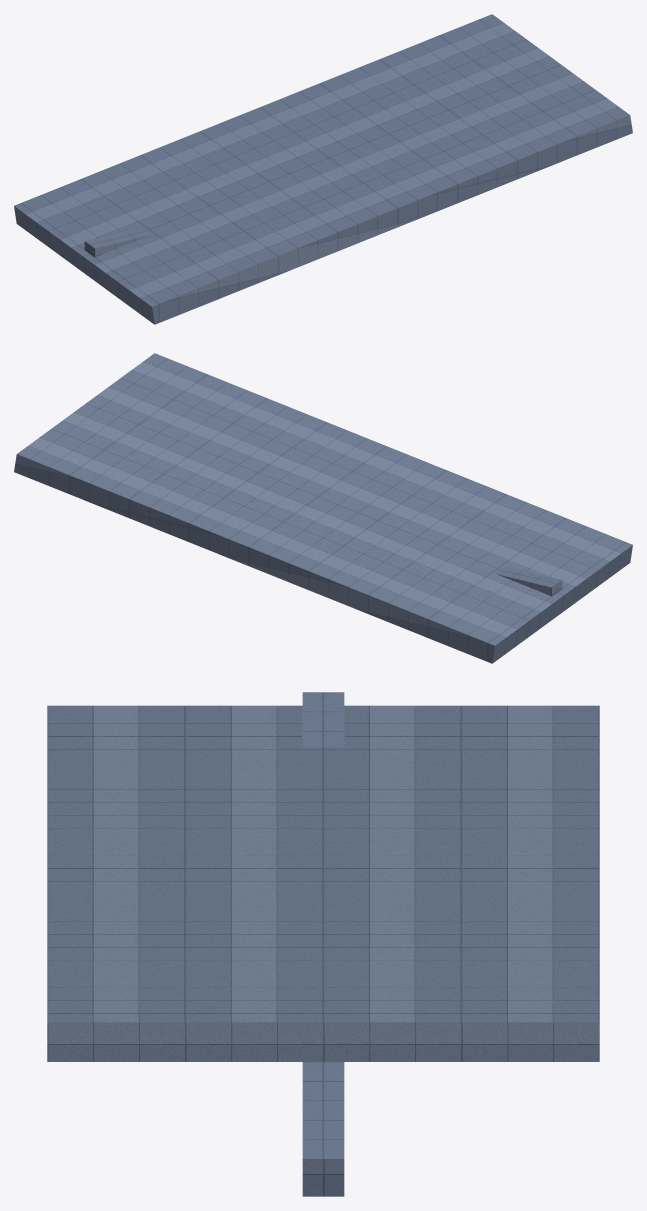
3 views of the same model, one above another, from view 1: azimuth 30°, elevation 25°; view 2: azimuth 150°, elevation 25°; view 3: azimuth 270°, elevation 25° (orthographic). The views are drawn at different scales.
Parts seen in each view (by area): view 1: roof_shed_production_run001; view 2: roof_shed_production_run001; view 3: roof_shed_production_run001.
Part boxes in pixels (box(x1,y1,x2,y2)): roof_shed_production_run001: box(14, 14, 632, 324); roof_shed_production_run001: box(14, 353, 632, 663); roof_shed_production_run001: box(47, 692, 599, 1196).
Bounding box in the file's own units: 8.11 × 1.5 × 4.
1 material, 1 textured.
